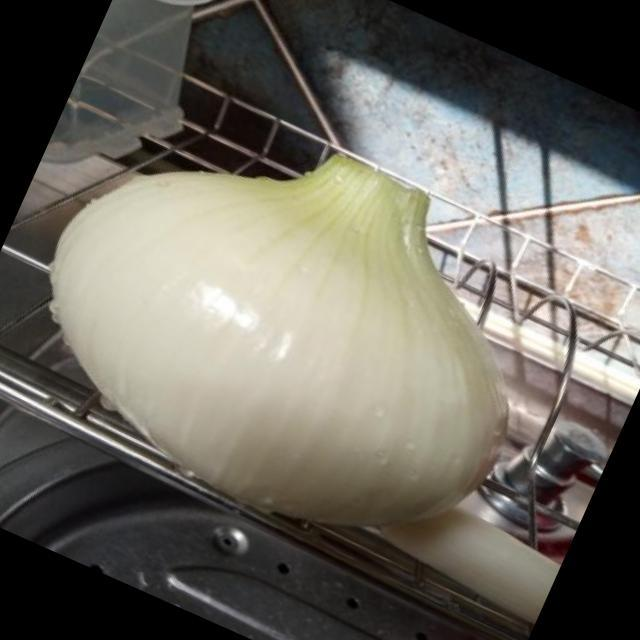Onion: (52, 159, 499, 522)
